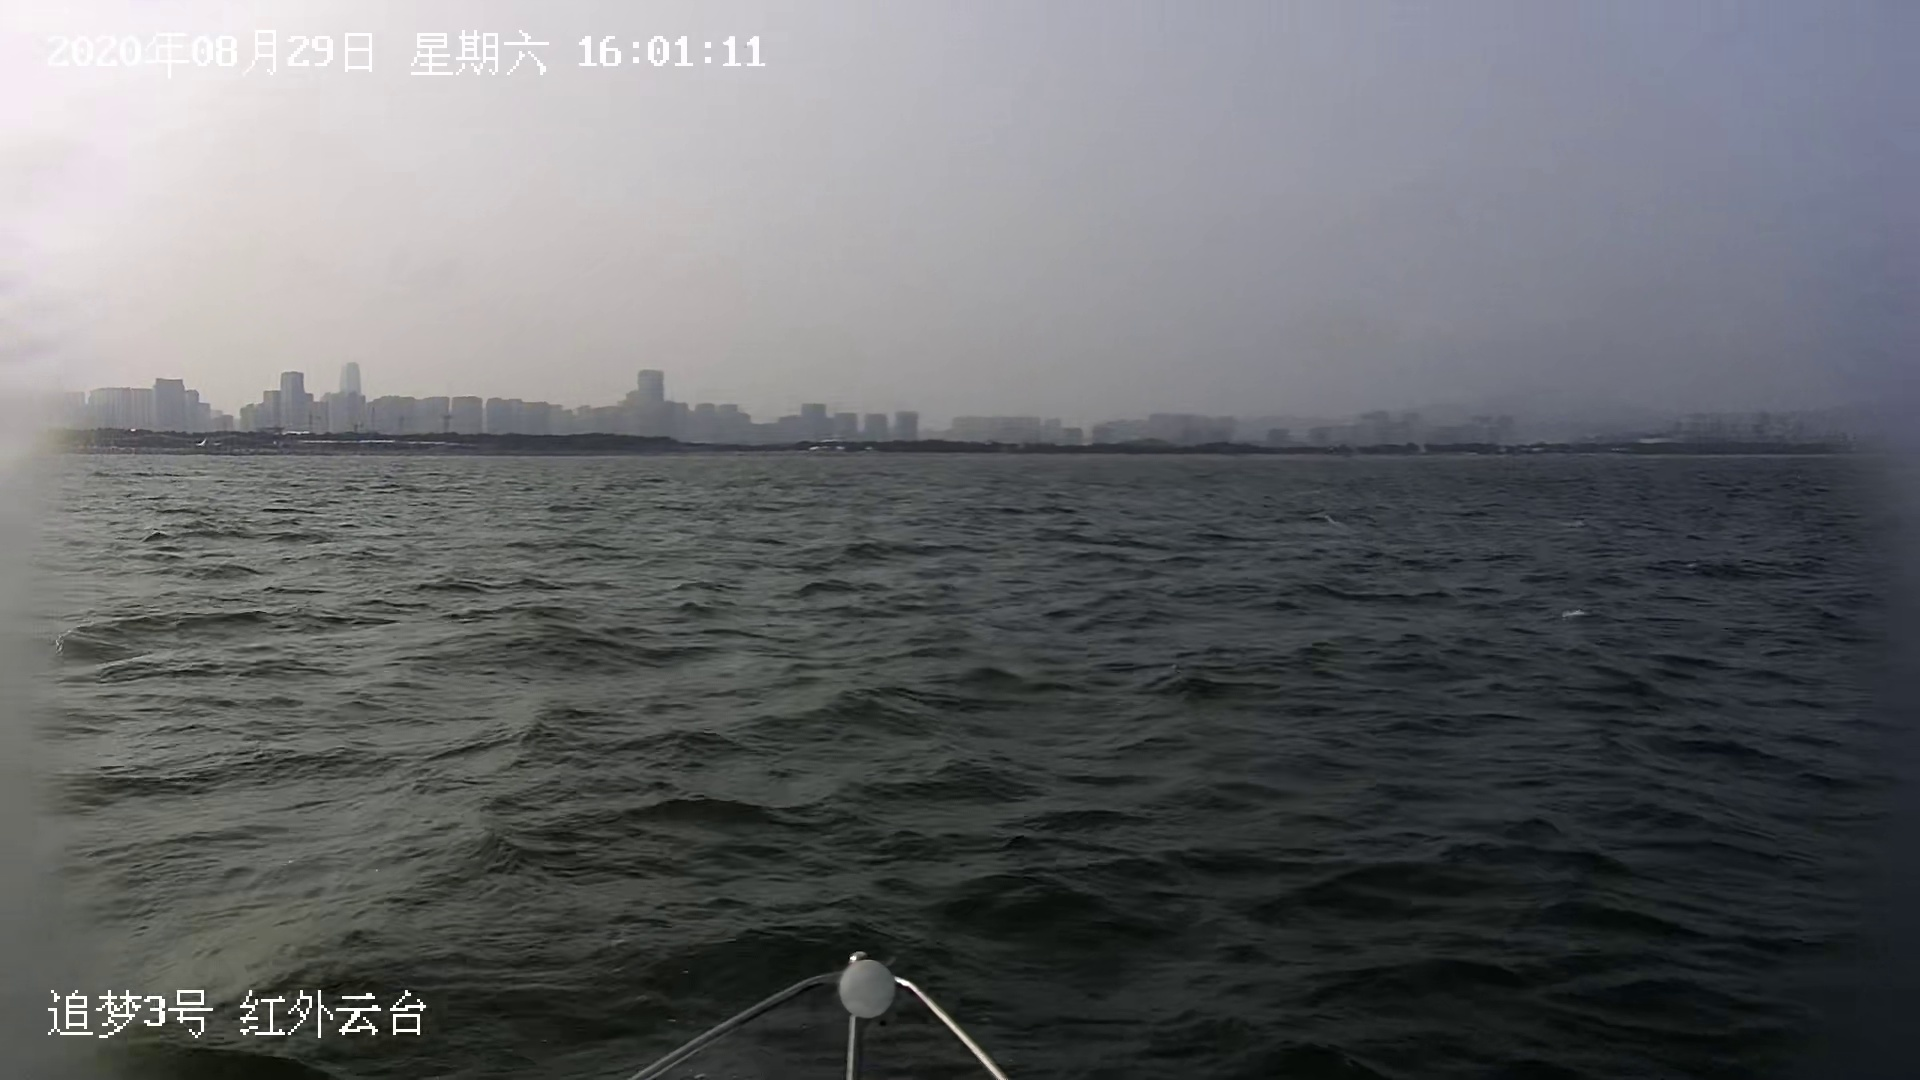coast: (32, 353, 1920, 465)
